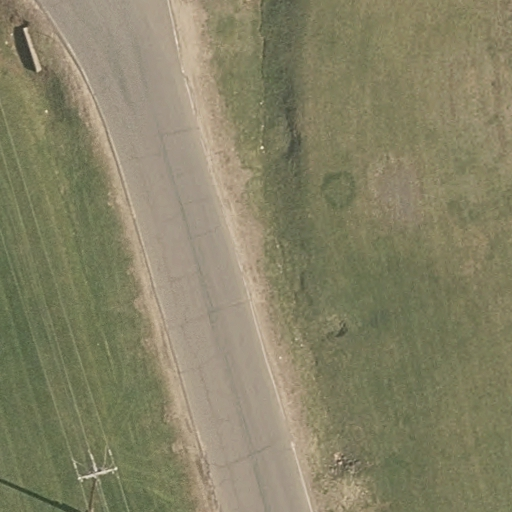DT: (65, 439, 123, 512)
